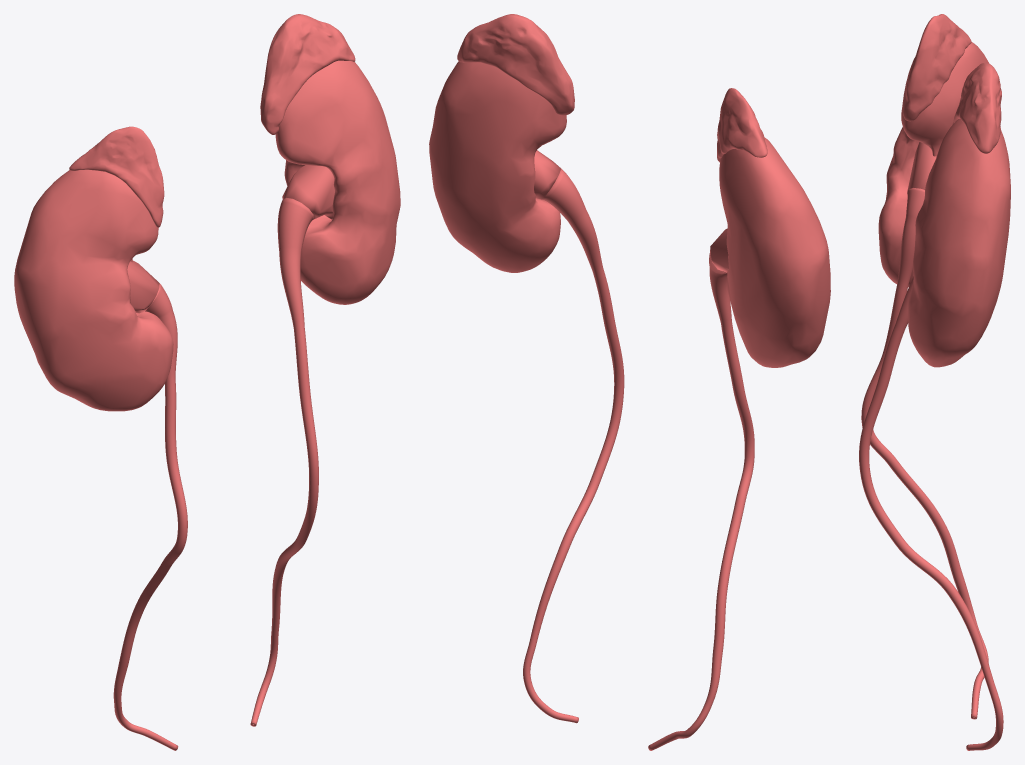
The model's file is Kidney_New.glb.
The picture shows the model from 3 angles, left to right: view 1: azimuth 30°, elevation 25°; view 2: azimuth 150°, elevation 25°; view 3: azimuth 270°, elevation 25°; orthographic projection. The views are drawn at different scales.
Visible parts, largest first — view 1: Kidney.r, Kidney.l, Ureter.l, Suprarenal gland.l, Ureter.r, Suprarenal gland.r, Renal pelvis.l, Renal pelvis.r; view 2: Kidney.l, Kidney.r, Ureter.l, Suprarenal gland.l, Ureter.r, Suprarenal gland.r, Renal pelvis.l; view 3: Kidney.l, Kidney.r, Ureter.l, Ureter.r, Suprarenal gland.r, Suprarenal gland.l, Renal pelvis.r.
Boxes of the visible parts, left/top/right/bottom form: Kidney.r: left=14, top=169, right=173, bottom=411; Kidney.l: left=275, top=60, right=400, bottom=304; Ureter.l: left=250, top=198, right=318, bottom=726; Suprarenal gland.l: left=260, top=14, right=355, bottom=134; Ureter.r: left=113, top=283, right=187, bottom=750; Suprarenal gland.r: left=69, top=126, right=164, bottom=227; Renal pelvis.l: left=282, top=165, right=334, bottom=219; Renal pelvis.r: left=127, top=260, right=159, bottom=313; Kidney.l: left=429, top=61, right=566, bottom=272; Kidney.r: left=719, top=137, right=830, bottom=367; Ureter.l: left=523, top=168, right=624, bottom=723; Suprarenal gland.l: left=457, top=14, right=574, bottom=115; Ureter.r: left=648, top=253, right=754, bottom=750; Suprarenal gland.r: left=717, top=88, right=767, bottom=162; Renal pelvis.l: left=534, top=150, right=560, bottom=199; Kidney.l: left=908, top=119, right=1010, bottom=367; Kidney.r: left=878, top=42, right=989, bottom=287; Ureter.l: left=859, top=276, right=1003, bottom=750; Ureter.r: left=861, top=188, right=988, bottom=719; Suprarenal gland.r: left=902, top=14, right=971, bottom=121; Suprarenal gland.l: left=952, top=63, right=1001, bottom=153; Renal pelvis.r: left=907, top=142, right=936, bottom=192.
Bounding box in the file's own units: 0.1938 × 0.3408 × 0.0654.
